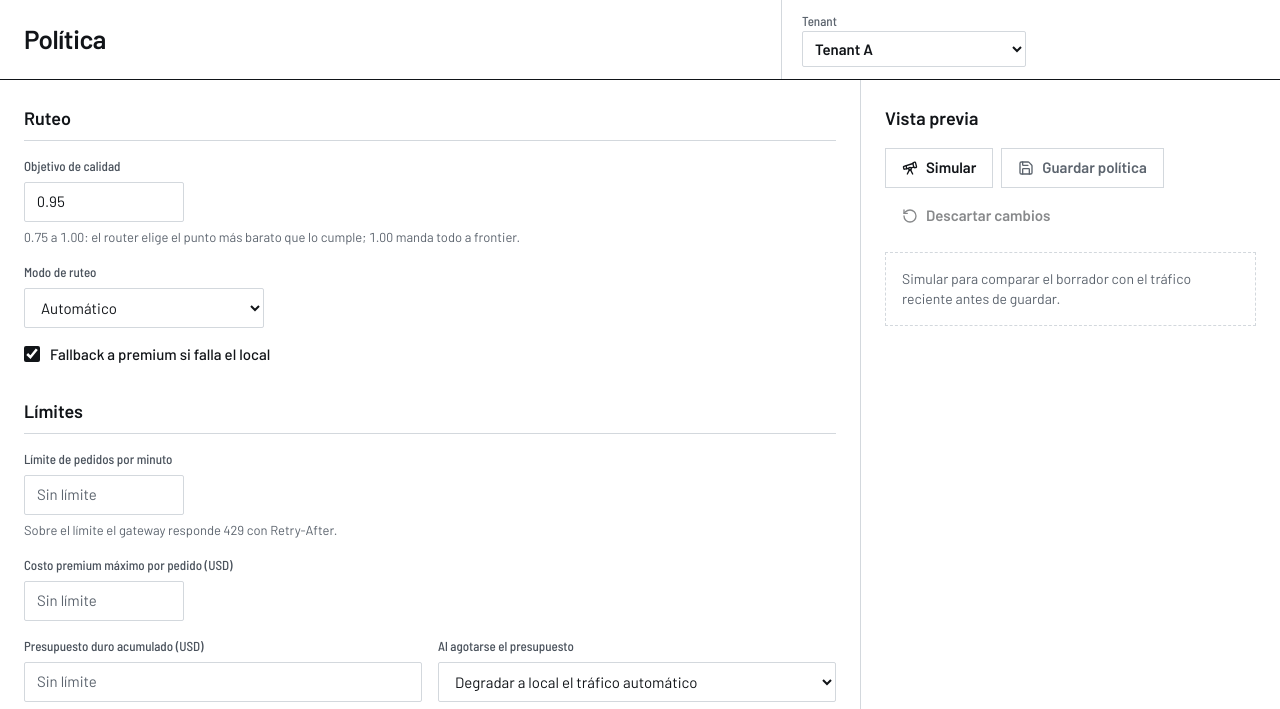
Test: policy-page › shows preview errors from the simulation mutation
The image size is (1280, 709).
Expected: the heading "Vista previa" is shown, [885, 104, 978, 132]
Click the button "Simular". click: {"x": 939, "y": 168}
box: [885, 148, 993, 188]
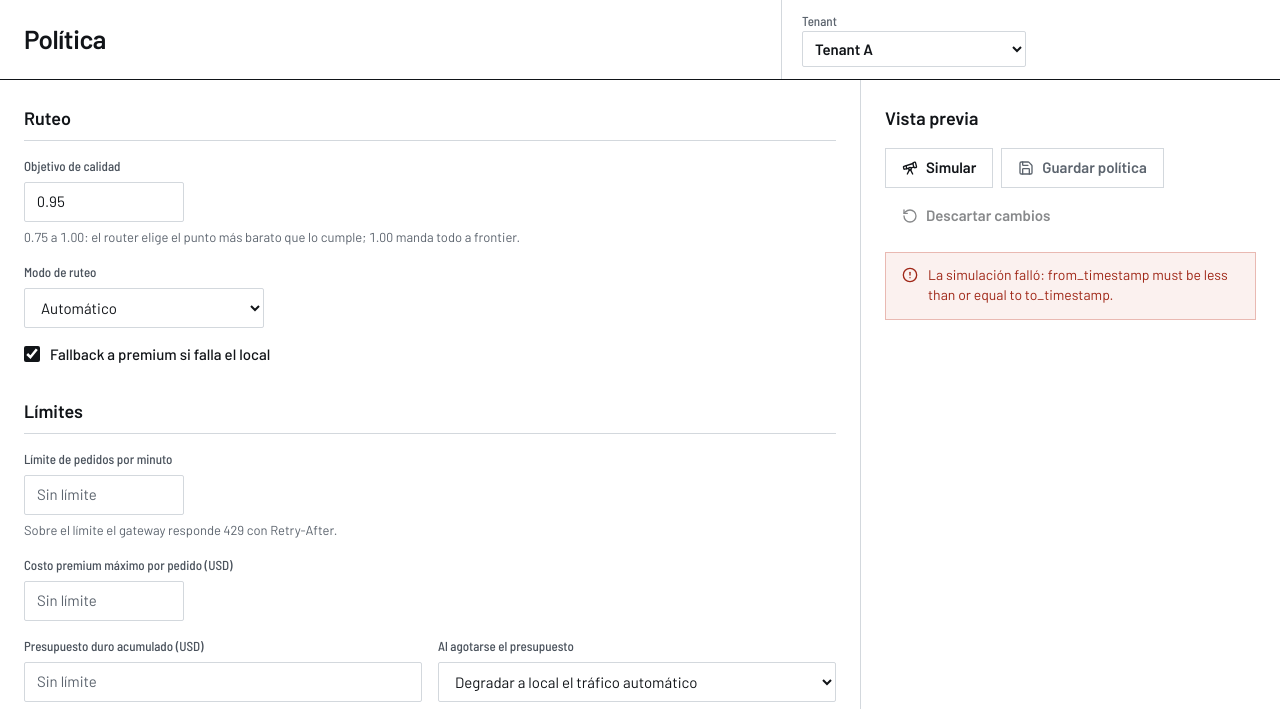
Expected: the text "La simulación falló: from_timestamp must be less than or equal to to_timestamp." is shown, [928, 265, 1239, 305]
